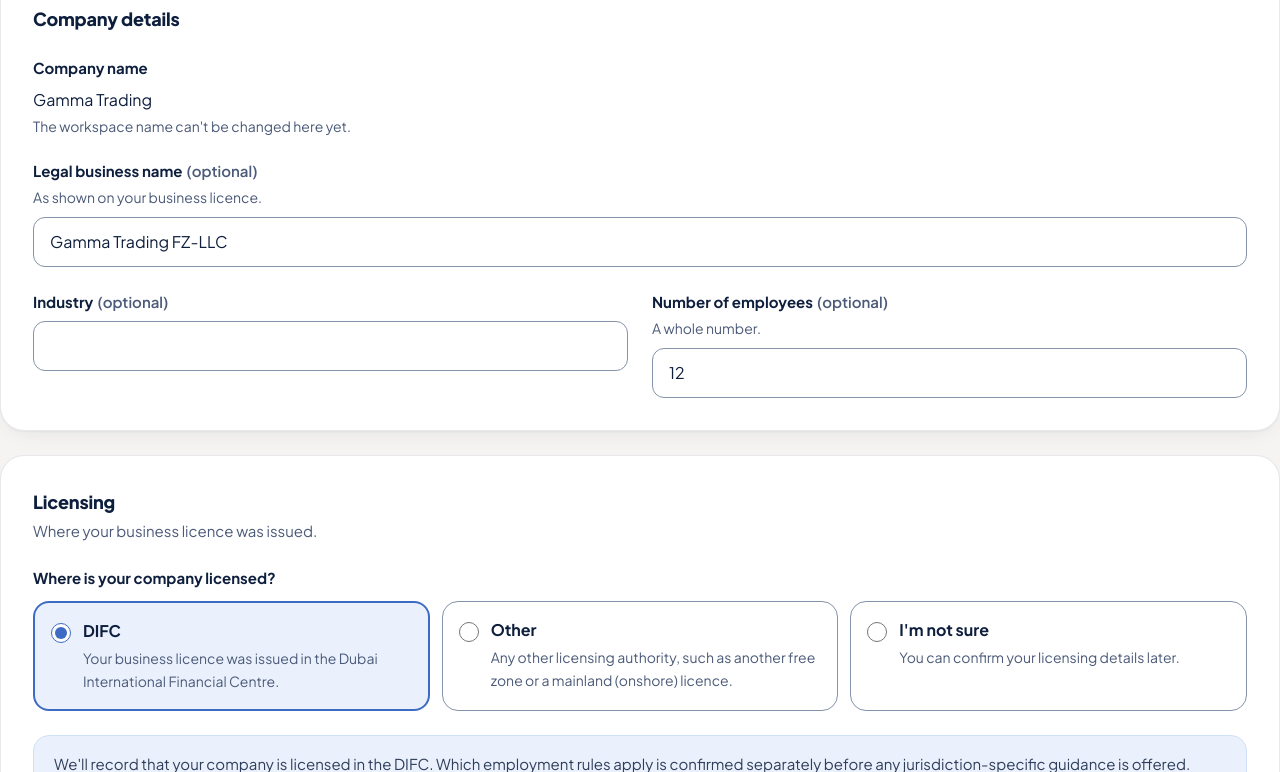
Test: CompanySettingsForm › never shows 'saved' after a failure (0)
Type "Retail" into the field labelled "Industry(optional)" at (330, 346), box left=33, top=321, right=628, bottom=371
(page scrolled)
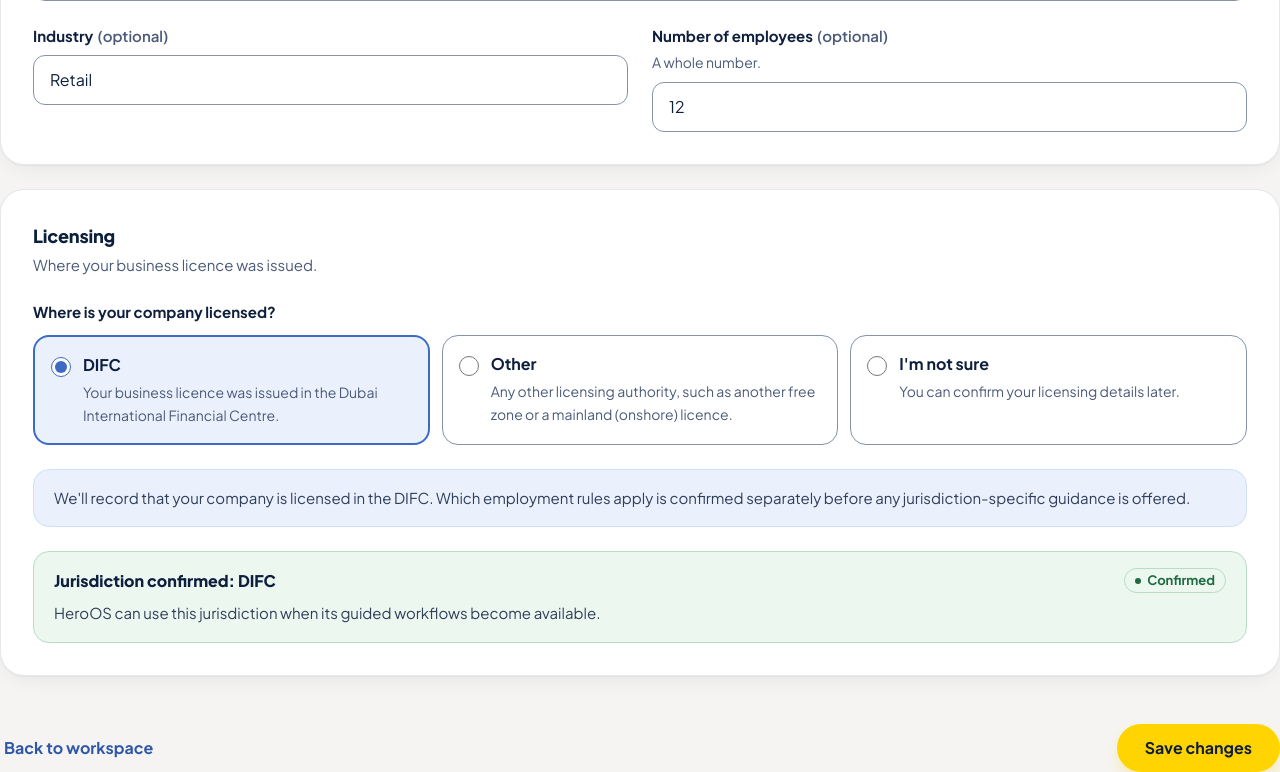
Click the button "Save changes" at (1198, 748), box left=1117, top=724, right=1279, bottom=771
(page scrolled)
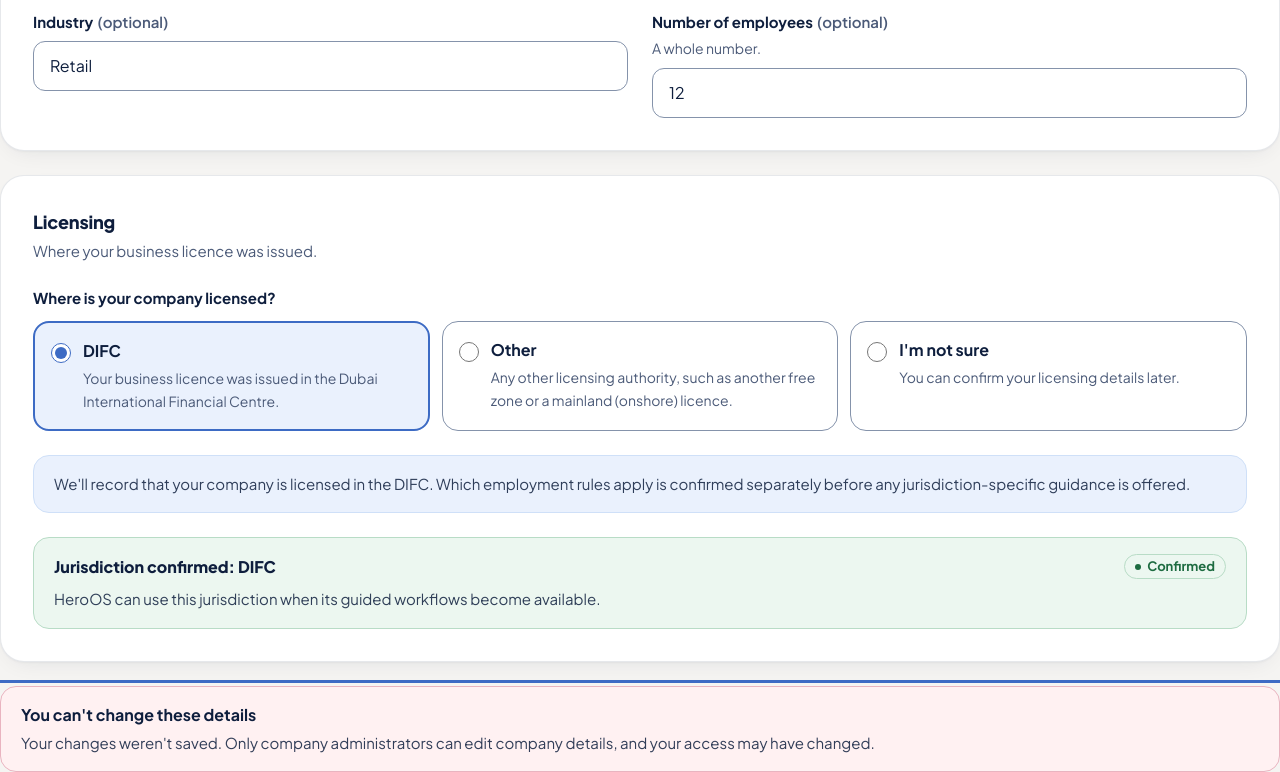
Now the message shows "You can't change these details", box left=21, top=704, right=256, bottom=725
